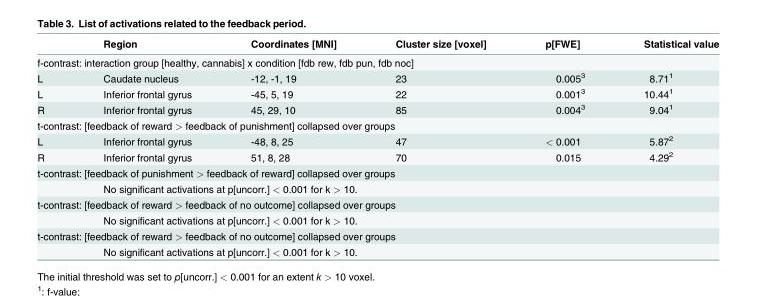table: (36, 37, 718, 257)
table column: (365, 37, 514, 257), (73, 37, 220, 257), (220, 37, 365, 257), (613, 37, 718, 257), (514, 37, 613, 257), (36, 37, 73, 257)
table column header: (36, 37, 718, 52)
table projected row header: (36, 52, 718, 69), (36, 164, 718, 180), (36, 196, 718, 212), (36, 227, 718, 243), (36, 117, 718, 132)
table row: (36, 52, 718, 69), (36, 100, 718, 117), (36, 69, 718, 85), (36, 132, 718, 148), (36, 148, 718, 164), (36, 164, 718, 180), (36, 180, 718, 196), (36, 196, 718, 212), (36, 227, 718, 243), (36, 37, 718, 52), (36, 85, 718, 100), (36, 117, 718, 132), (36, 212, 718, 227), (36, 243, 718, 257)
table spanning cell: (73, 180, 718, 196), (73, 212, 718, 227), (73, 243, 718, 257)
